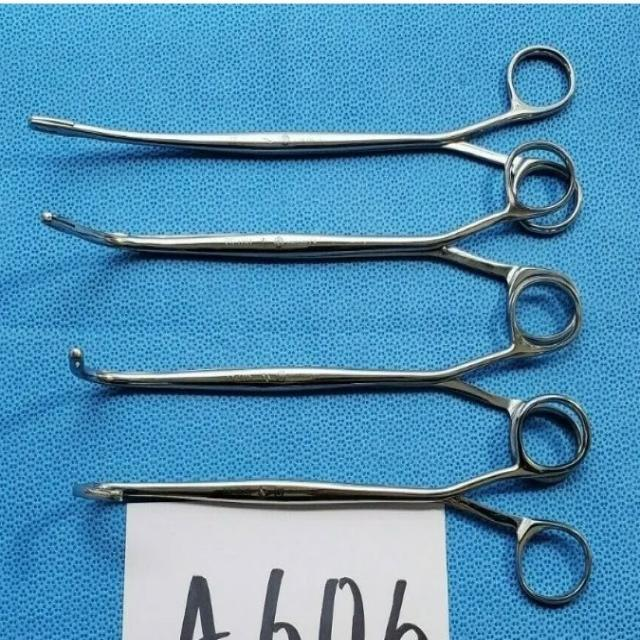Randall: (36, 142, 582, 330)
